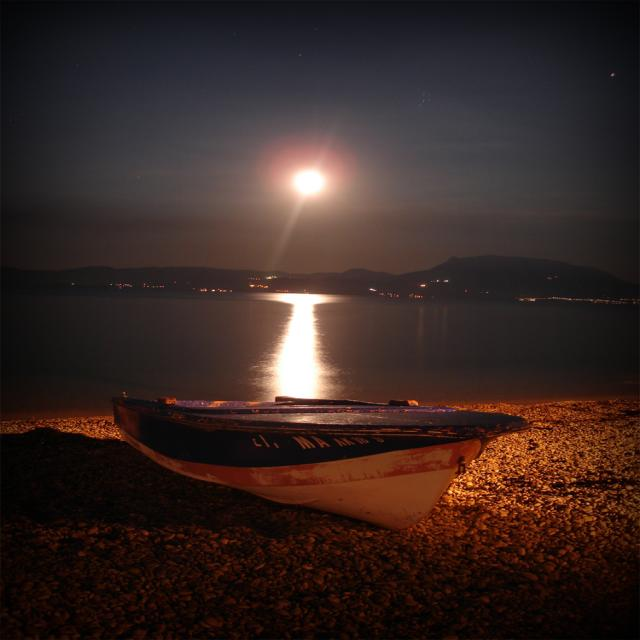Boat: (99, 369, 561, 538)
